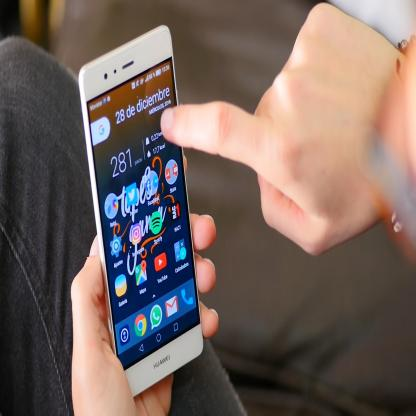smartphone: (77, 20, 204, 404)
